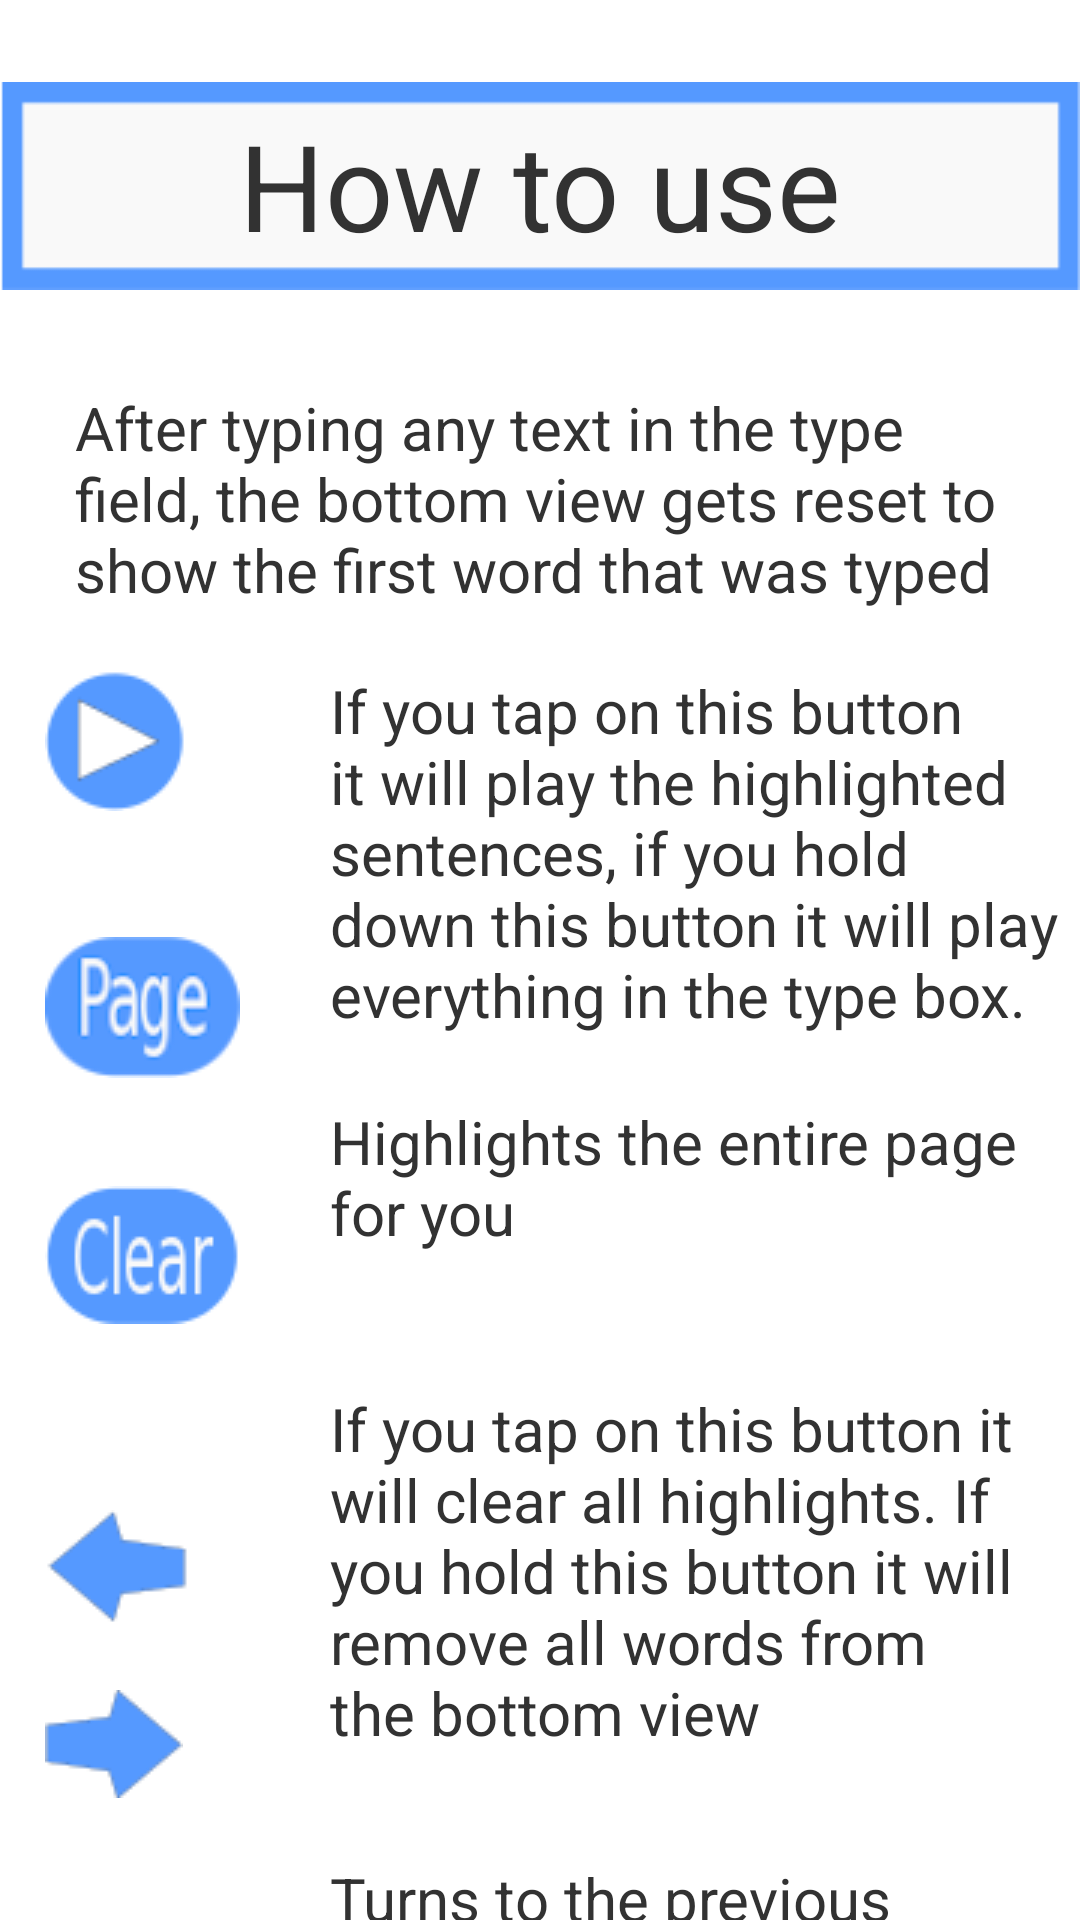

Icons on this 1080w x 1920h Android screen, each with the point to tap as (x,y):
image play button description: (114,741)
image turn back page button description: (117,1567)
image turn page button description: (114,1744)
